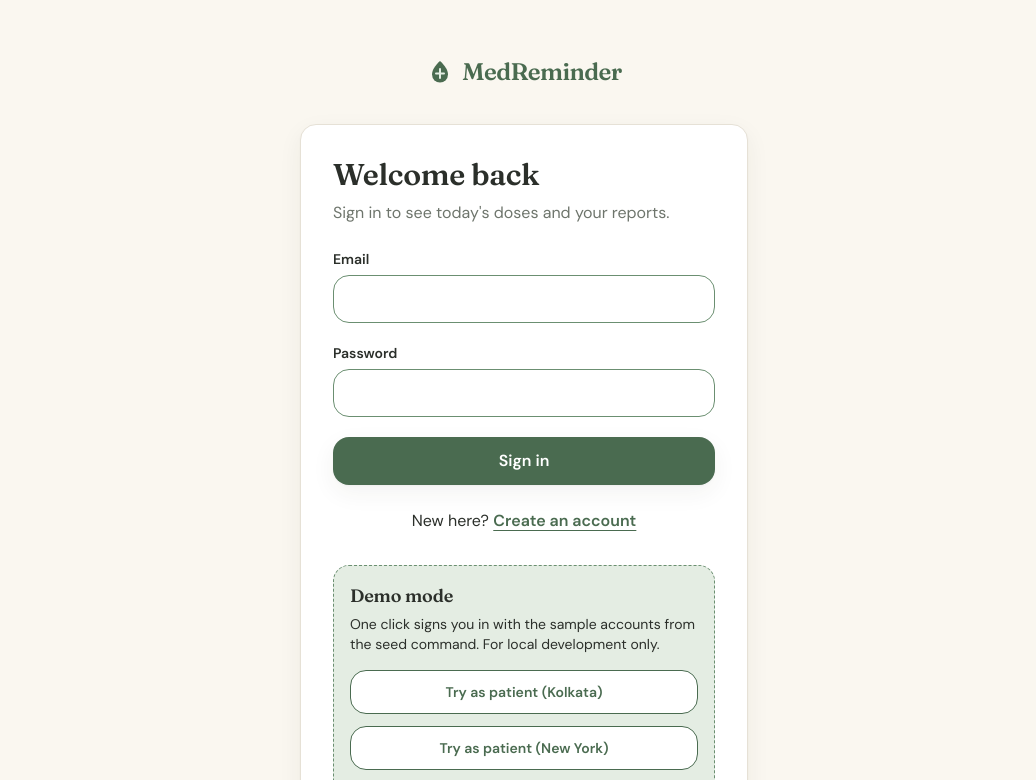
Test: LoginPage in demo mode › Try as patient (Kolkata) signs in as the seed_demo account and lands on the role home
Click the button "Try as patient (Kolkata)".
click(524, 692)  # box [350,670,698,714]
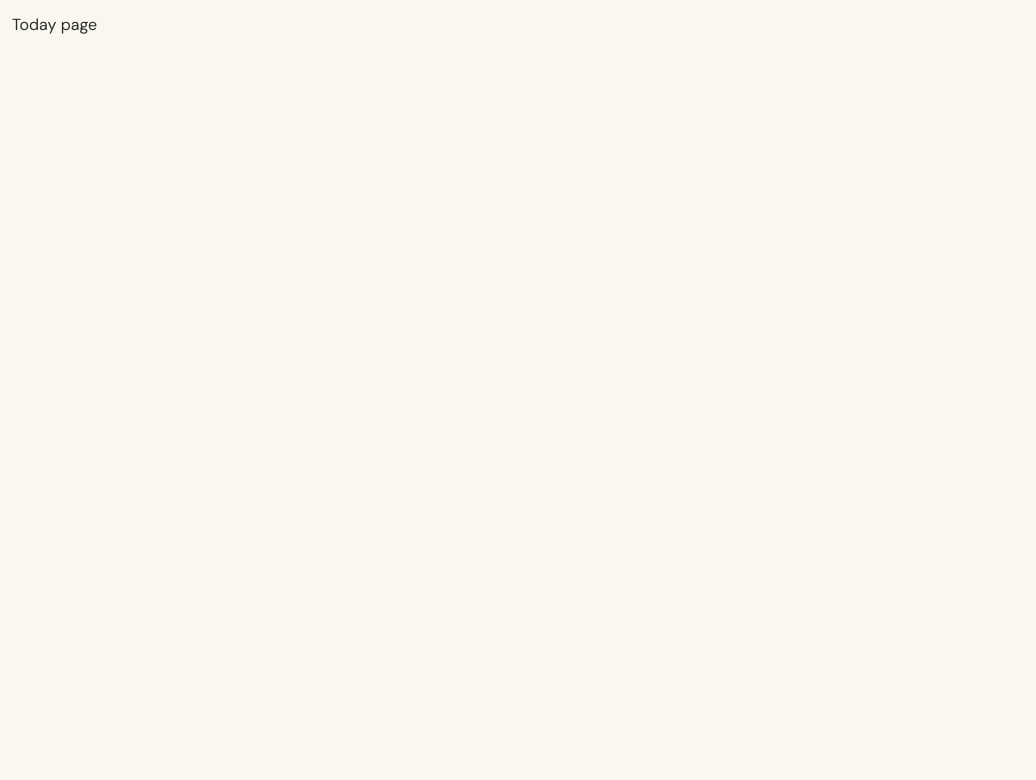
Expected: the text "Today page" is shown, [12,14,97,35]
